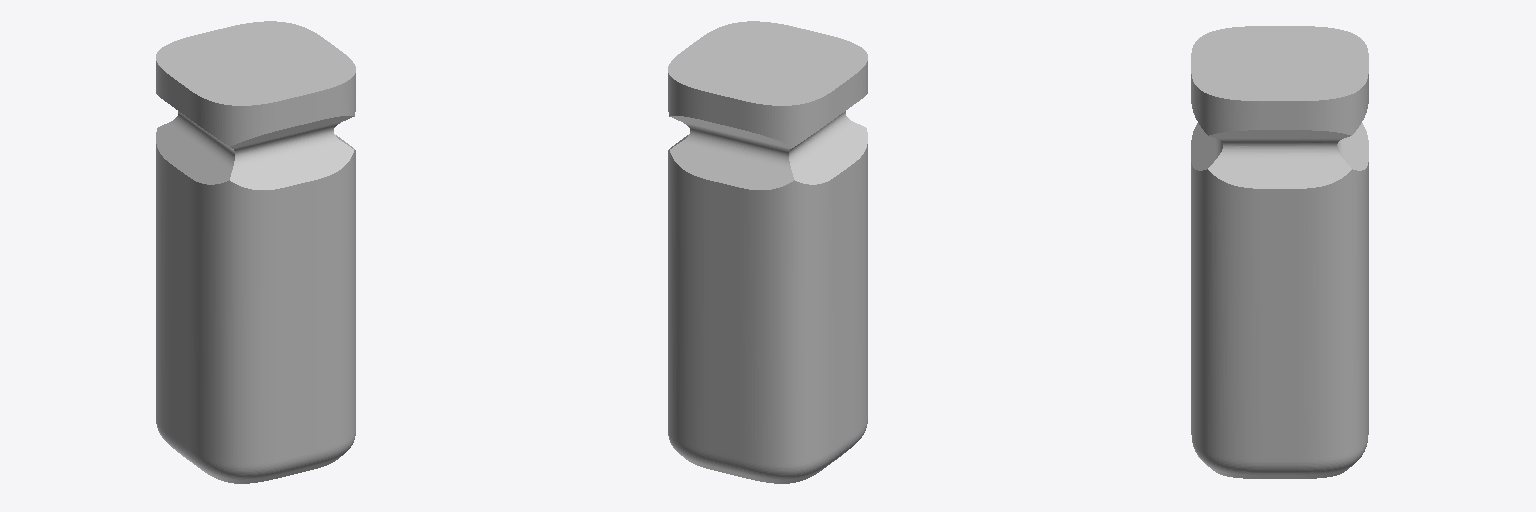
File: 06_queen.obj
The picture shows the model from 3 angles: view 1: azimuth 30°, elevation 25°; view 2: azimuth 150°, elevation 25°; view 3: azimuth 270°, elevation 25°; orthographic projection.
Parts seen in each view (by area): view 1: Queen_-_x1pc_by_colour_-_001; view 2: Queen_-_x1pc_by_colour_-_001; view 3: Queen_-_x1pc_by_colour_-_001.
Part boxes in pixels (x1,y1,x2,y2): Queen_-_x1pc_by_colour_-_001: (156, 21, 355, 483); Queen_-_x1pc_by_colour_-_001: (668, 21, 867, 483); Queen_-_x1pc_by_colour_-_001: (1191, 26, 1368, 478).
Size of the model in its own units: 16.5 by 39.5 by 16.5.